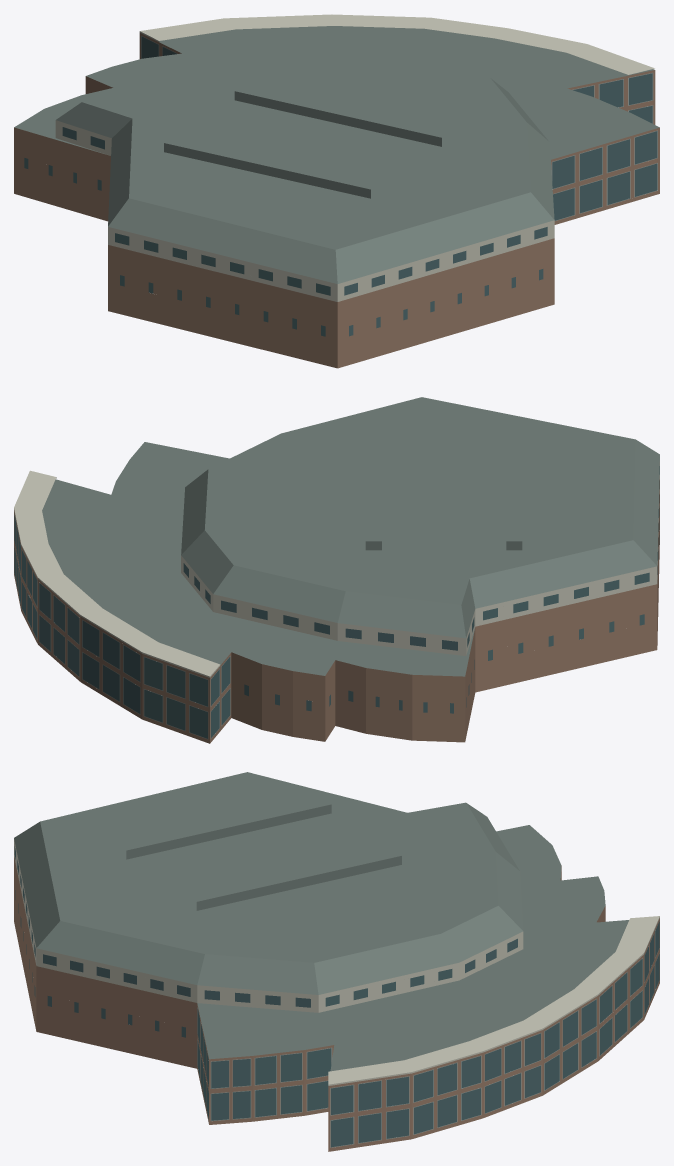
Rendered from gas-south-arena-far.glb.
3 views of the same model, one above another, from view 1: azimuth 30°, elevation 25°; view 2: azimuth 150°, elevation 25°; view 3: azimuth 270°, elevation 25° (orthographic).
Visible parts, largest first — view 1: gas-south-arena-0-roof, gas-south-arena-0-brick, gas-south-arena-0-stone, gas-south-arena-0-glass, gas-south-arena-0-metal; view 2: gas-south-arena-0-roof, gas-south-arena-0-brick, gas-south-arena-0-glass, gas-south-arena-0-stone, gas-south-arena-0-metal; view 3: gas-south-arena-0-roof, gas-south-arena-0-glass, gas-south-arena-0-brick, gas-south-arena-0-stone, gas-south-arena-0-metal.
Part boxes in pixels (left/top/right/bottom): gas-south-arena-0-roof: left=14, top=26, right=659, bottom=283; gas-south-arena-0-brick: left=14, top=33, right=659, bottom=368; gas-south-arena-0-stone: left=55, top=14, right=654, bottom=301; gas-south-arena-0-glass: left=24, top=36, right=657, bottom=336; gas-south-arena-0-metal: left=141, top=35, right=657, bottom=220; gas-south-arena-0-roof: left=42, top=397, right=659, bottom=676; gas-south-arena-0-brick: left=14, top=479, right=659, bottom=743; gas-south-arena-0-glass: left=14, top=466, right=659, bottom=738; gas-south-arena-0-stone: left=14, top=462, right=659, bottom=677; gas-south-arena-0-metal: left=14, top=515, right=230, bottom=739; gas-south-arena-0-roof: left=14, top=772, right=628, bottom=1071; gas-south-arena-0-glass: left=14, top=846, right=659, bottom=1147; gas-south-arena-0-brick: left=14, top=857, right=659, bottom=1151; gas-south-arena-0-stone: left=14, top=839, right=659, bottom=1085; gas-south-arena-0-metal: left=197, top=921, right=659, bottom=1147.
Bounding box in the file's own units: 168 × 31.5 × 161.
